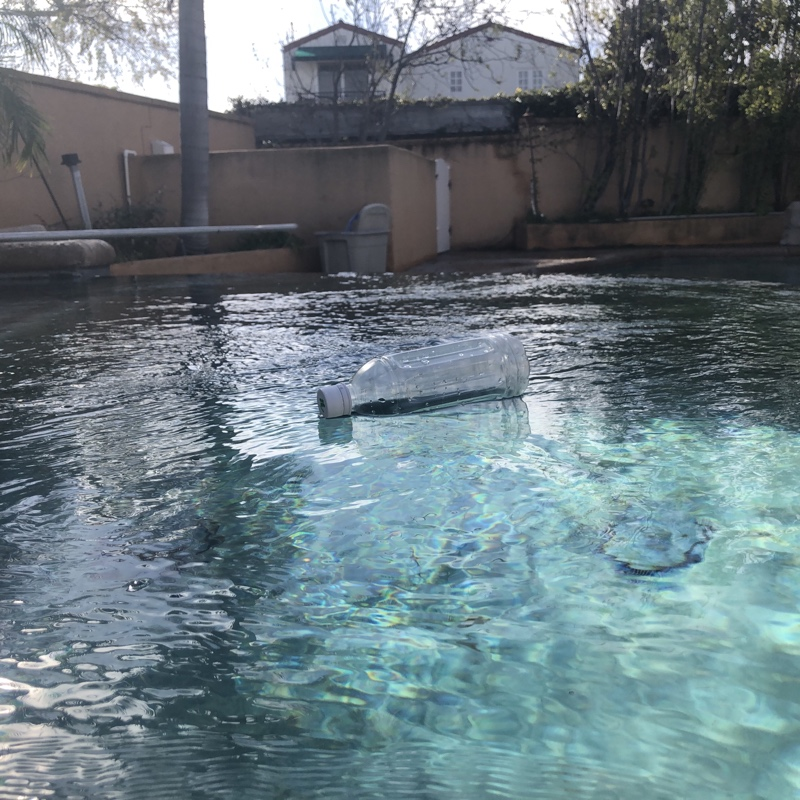Plastic Bottle: (311, 330, 534, 422)
